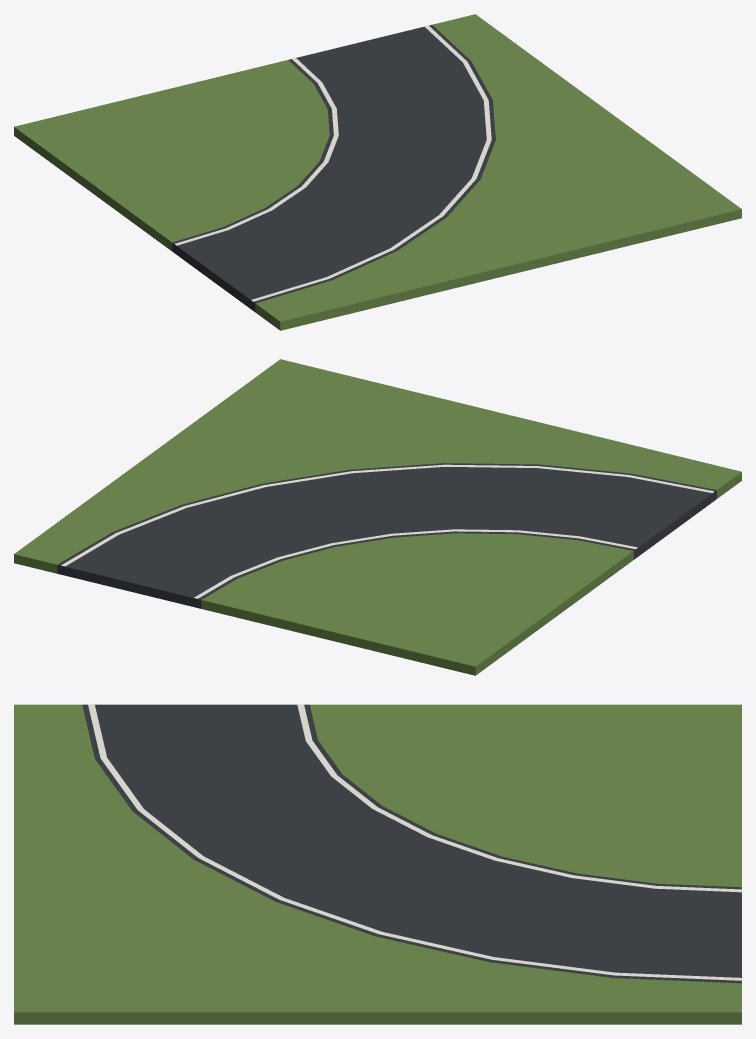
File: HighwayRamp_1Lane_Curve90_R.glb
The picture shows the model from 3 angles, top to bottom: view 1: azimuth 30°, elevation 25°; view 2: azimuth 150°, elevation 25°; view 3: azimuth 270°, elevation 25°; orthographic projection. The views are drawn at different scales.
Parts seen in each view (by area): view 1: HighwayRamp_1Lane_Curve90_R_Grass-edge, HighwayRamp_1Lane_Curve90_R_Asphalt, HighwayRamp_1Lane_Curve90_R_PaintWhite; view 2: HighwayRamp_1Lane_Curve90_R_Grass-edge, HighwayRamp_1Lane_Curve90_R_Asphalt, HighwayRamp_1Lane_Curve90_R_PaintWhite; view 3: HighwayRamp_1Lane_Curve90_R_Grass-edge, HighwayRamp_1Lane_Curve90_R_Asphalt, HighwayRamp_1Lane_Curve90_R_PaintWhite.
Boxes of the visible parts, x1=… form: HighwayRamp_1Lane_Curve90_R_Grass-edge: x1=14, y1=14, x2=741, y2=330; HighwayRamp_1Lane_Curve90_R_Asphalt: x1=172, y1=25, x2=495, y2=311; HighwayRamp_1Lane_Curve90_R_PaintWhite: x1=175, y1=25, x2=491, y2=301; HighwayRamp_1Lane_Curve90_R_Grass-edge: x1=14, y1=359, x2=741, y2=675; HighwayRamp_1Lane_Curve90_R_Asphalt: x1=57, y1=463, x2=716, y2=608; HighwayRamp_1Lane_Curve90_R_PaintWhite: x1=61, y1=464, x2=714, y2=598; HighwayRamp_1Lane_Curve90_R_Grass-edge: x1=14, y1=704, x2=741, y2=1024; HighwayRamp_1Lane_Curve90_R_Asphalt: x1=82, y1=704, x2=741, y2=983; HighwayRamp_1Lane_Curve90_R_PaintWhite: x1=88, y1=704, x2=741, y2=980.
Size of the model in its own units: 16 by 0.305 by 16.
